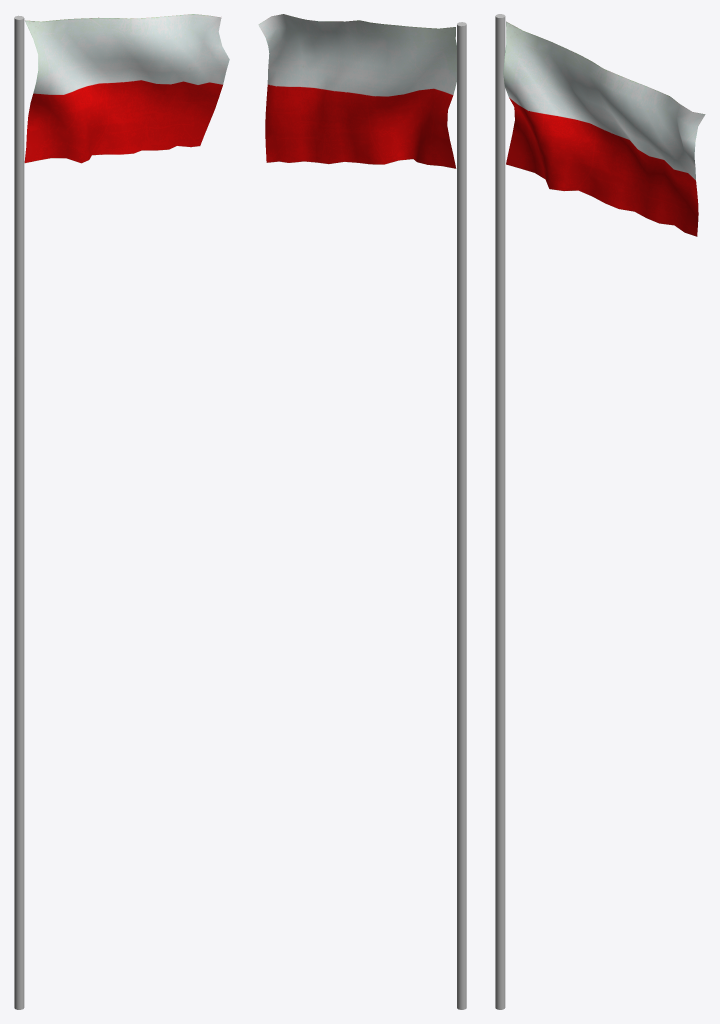
File: Flag_Poland.fbx
3 views of the same model, side by side, from view 1: azimuth 30°, elevation 25°; view 2: azimuth 150°, elevation 25°; view 3: azimuth 330°, elevation 25° (orthographic).
Parts seen in each view (by area): view 1: Poland_Front, Pole, Poland_Back; view 2: Poland_Front, Pole, Poland_Back; view 3: Poland_Front, Pole, Poland_Back.
Boxes of the visible parts, x1,y1,x2,y2 form: Poland_Front: (24, 14, 229, 163); Pole: (14, 15, 24, 1009); Poland_Back: (24, 14, 227, 162); Poland_Front: (258, 14, 456, 168); Pole: (457, 22, 466, 1009); Poland_Back: (260, 14, 456, 168); Poland_Front: (503, 21, 705, 236); Pole: (495, 14, 505, 1009); Poland_Back: (504, 22, 704, 235).
Bounding box in the file's own units: 201 × 914 × 28.33.
